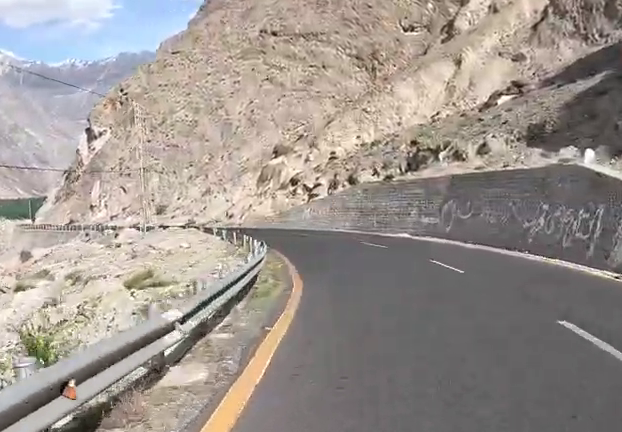right: (180, 203, 622, 361)
